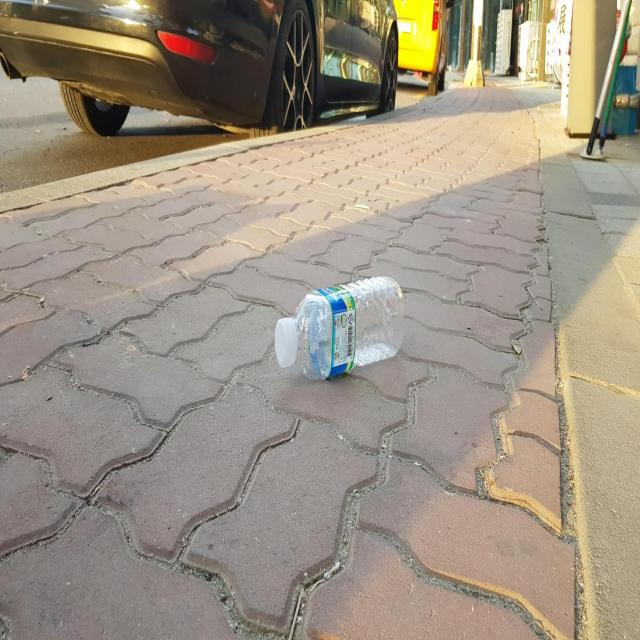plastic: (275, 276, 404, 378)
